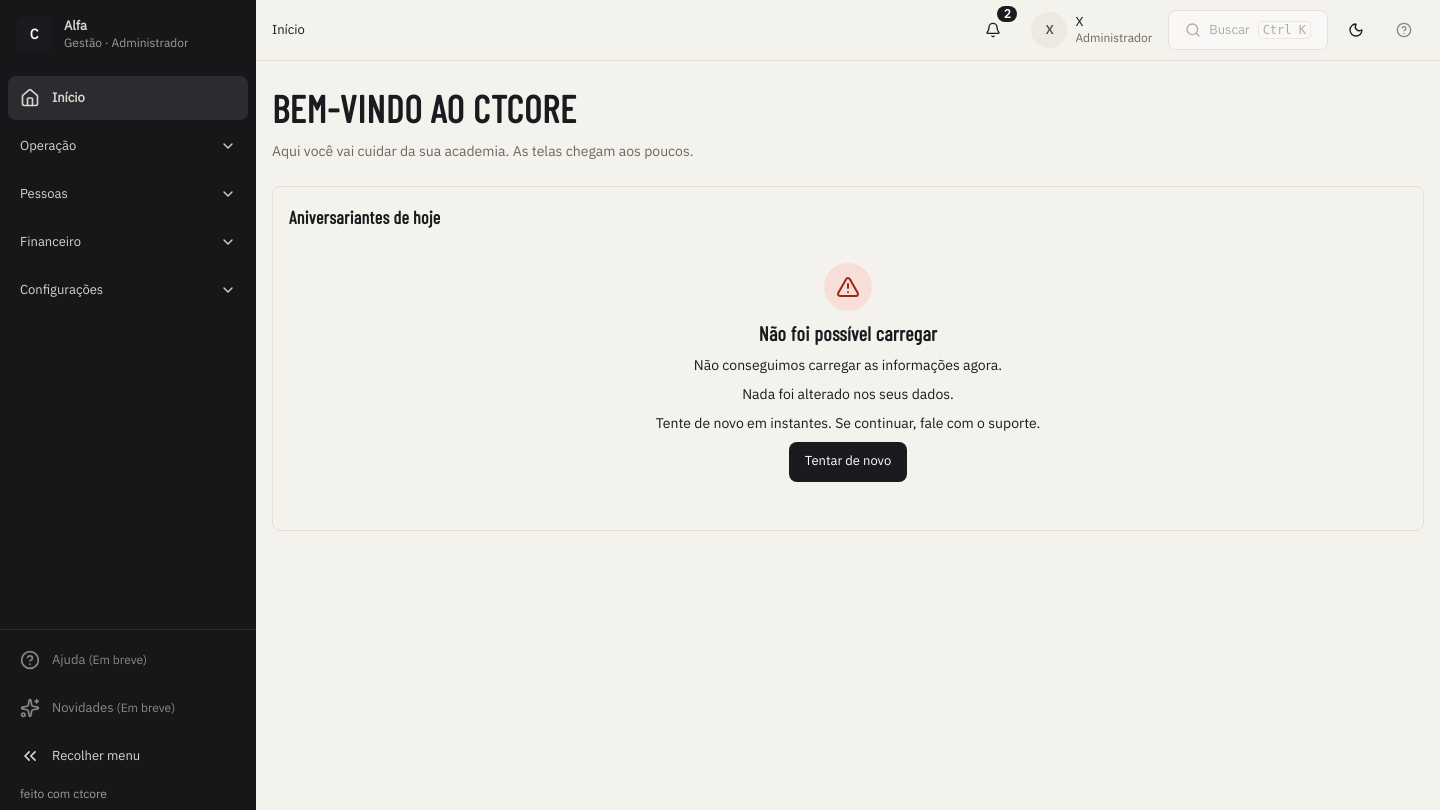
Test case: NotificationPanel (RF-NOT-01) › CA17: Esc fecha o painel e o foco volta ao sino
Click the button named "Notificações".
click(993, 30)  # box [971, 8, 1015, 52]
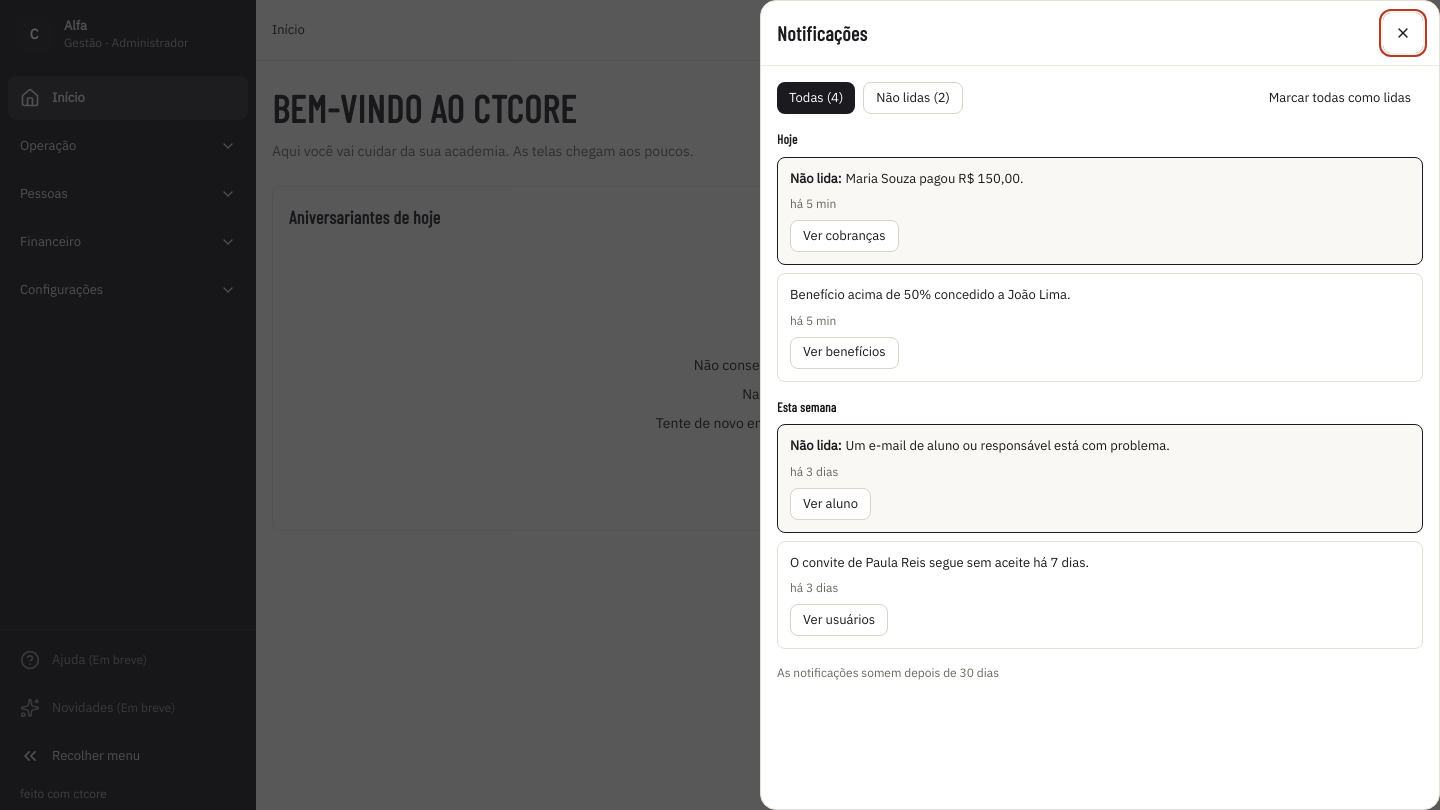
Check: the dialog "Notificações" is shown, box [760, 0, 1439, 809]
Press Escape
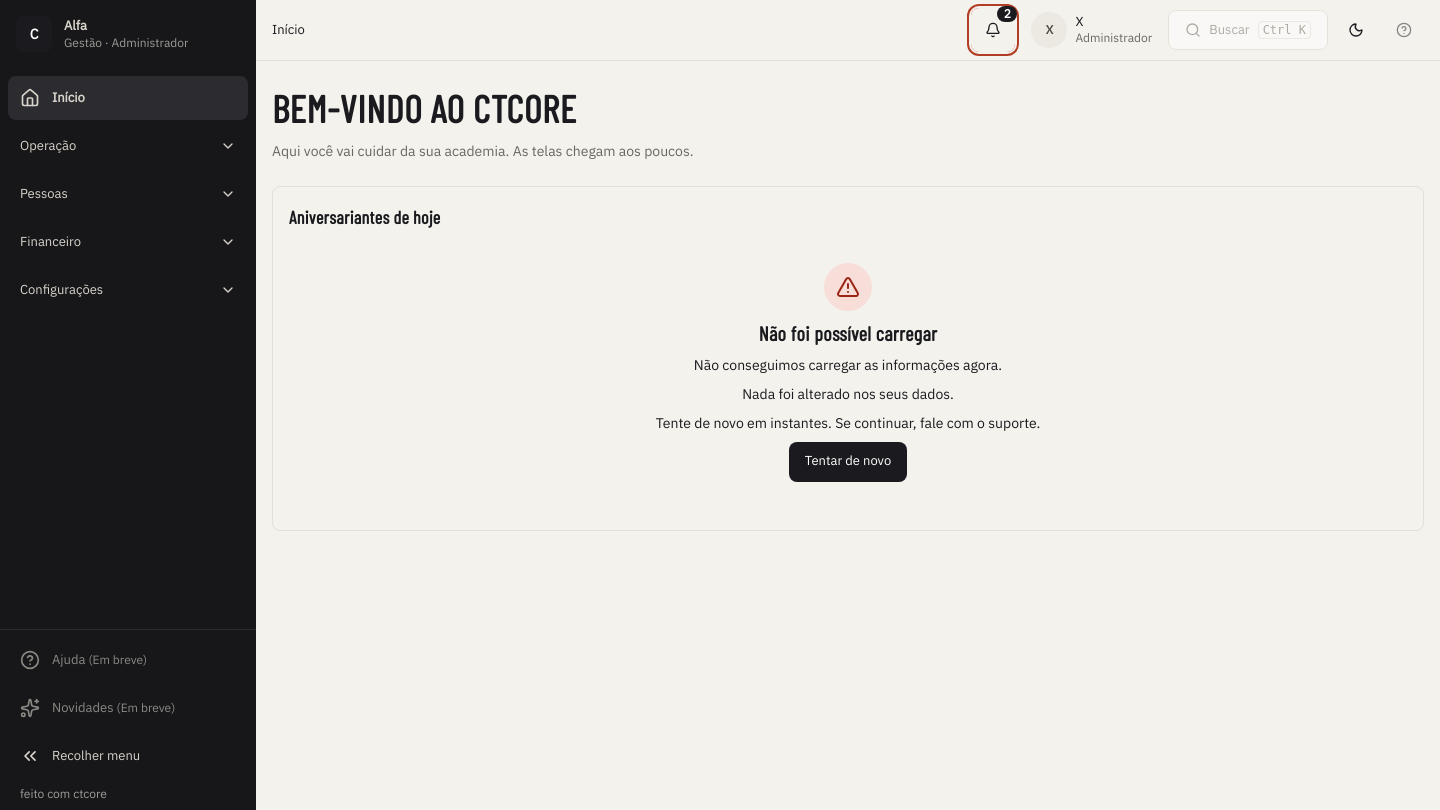
Check: the dialog is gone
